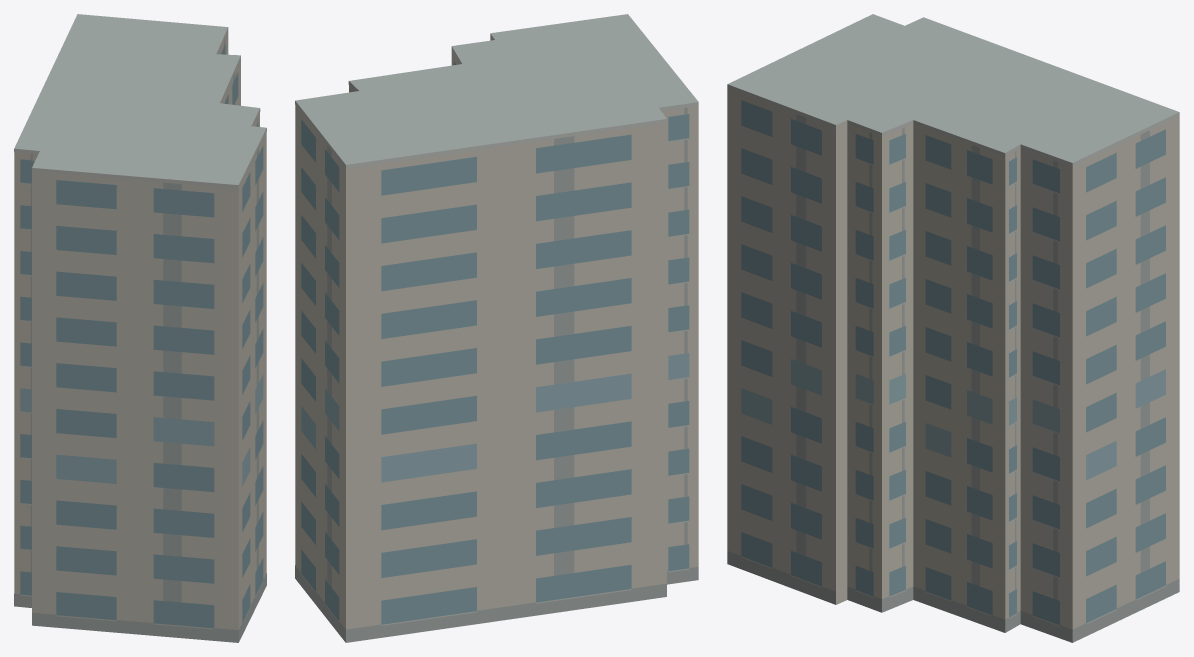
The model's file is survey-upis-32851814.glb.
The picture shows the model from 3 angles, left to right: view 1: azimuth 30°, elevation 25°; view 2: azimuth 150°, elevation 25°; view 3: azimuth 270°, elevation 25°; orthographic projection. The views are drawn at different scales.
Visible parts, largest first — view 1: survey-upis-32851814.tmp; view 2: survey-upis-32851814.tmp; view 3: survey-upis-32851814.tmp.
Boxes of the visible parts, x1,y1,x2,y2 form: survey-upis-32851814.tmp: (14, 14, 266, 642); survey-upis-32851814.tmp: (295, 14, 698, 642); survey-upis-32851814.tmp: (727, 14, 1179, 642).
Bounding box in the file's own units: 19.72 × 29.6 × 25.28.
